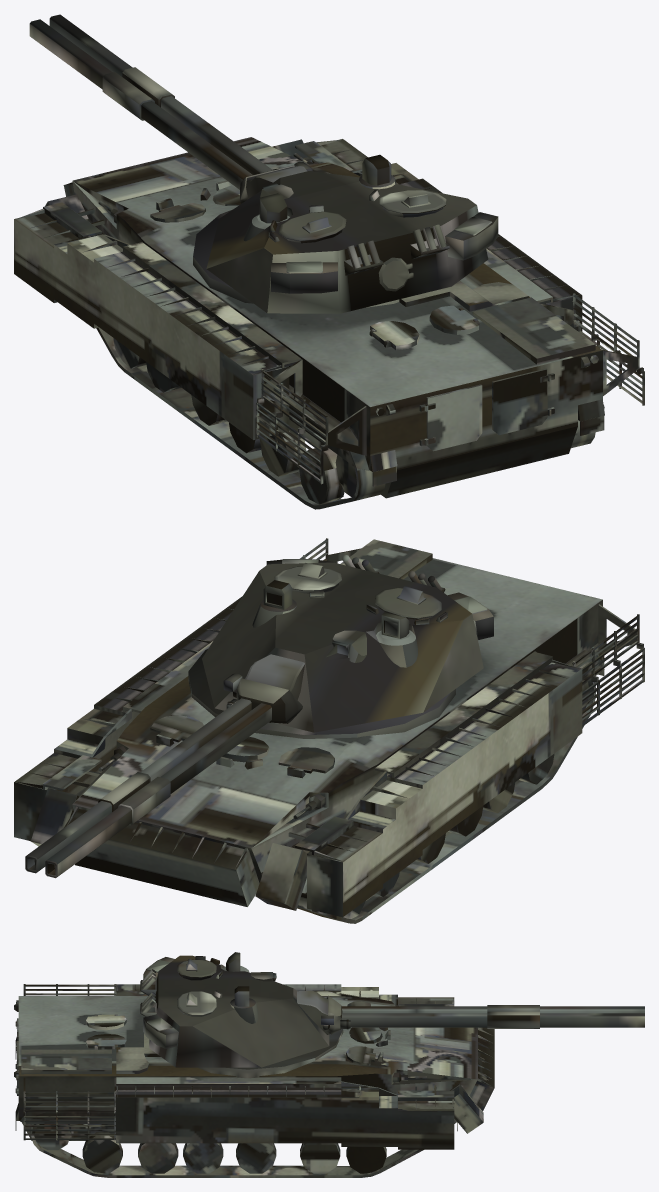
File: BMP-130-2.fbx
3 views of the same model, one above another, from view 1: azimuth 30°, elevation 25°; view 2: azimuth 150°, elevation 25°; view 3: azimuth 270°, elevation 25° (orthographic). The views are drawn at different scales.
Visible parts, largest first — view 1: BMK-130-2 Hull, AML-90 Turret; view 2: BMK-130-2 Hull, AML-90 Turret; view 3: BMK-130-2 Hull, AML-90 Turret.
Boxes of the visible parts, box(x1,y1,x2,y2) form: BMK-130-2 Hull: box(14, 137, 644, 509); AML-90 Turret: box(29, 14, 498, 313); BMK-130-2 Hull: box(14, 538, 644, 923); AML-90 Turret: box(25, 555, 493, 878); BMK-130-2 Hull: box(14, 984, 494, 1177); AML-90 Turret: box(140, 952, 644, 1078).
Bounding box in the file's own units: 4.13 × 2.81 × 9.71.
